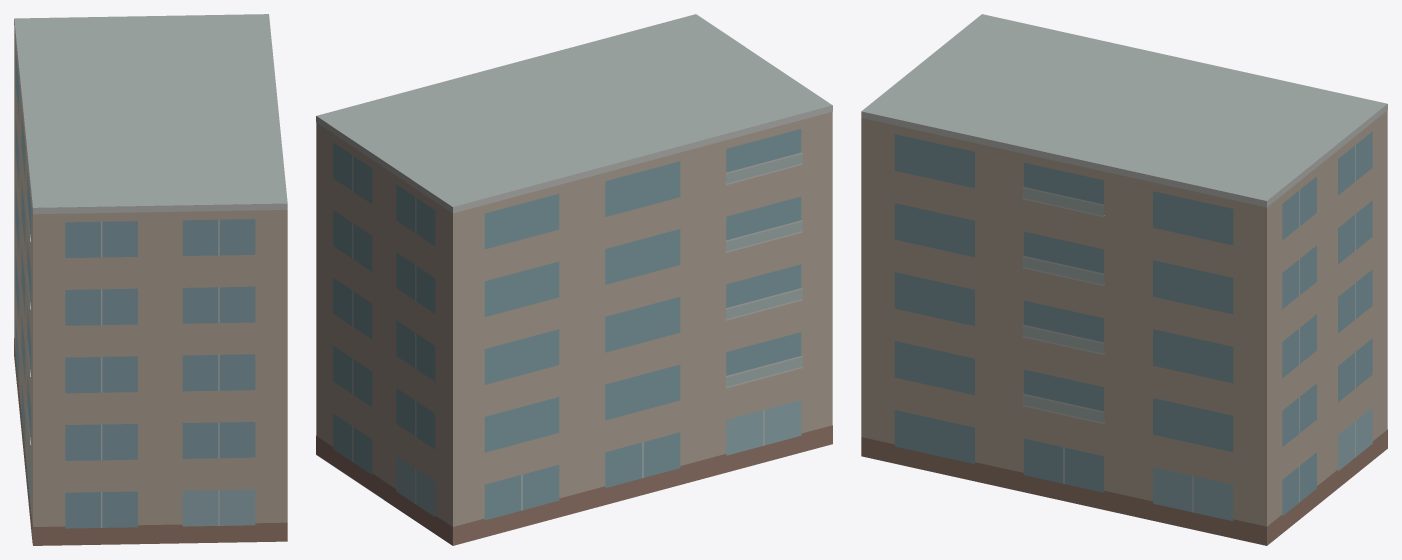
File: survey-upis-32843583.glb
The picture shows the model from 3 angles, left to right: view 1: azimuth 30°, elevation 25°; view 2: azimuth 150°, elevation 25°; view 3: azimuth 270°, elevation 25°; orthographic projection. The views are drawn at different scales.
Parts seen in each view (by area): view 1: survey-upis-32843583.tmp; view 2: survey-upis-32843583.tmp; view 3: survey-upis-32843583.tmp.
Boxes of the visible parts, <box> form: survey-upis-32843583.tmp: <box>14,14,287,545</box>; survey-upis-32843583.tmp: <box>316,14,832,545</box>; survey-upis-32843583.tmp: <box>861,14,1387,545</box>.
Size of the model in its own units: 15.11 by 12.98 by 17.97.
